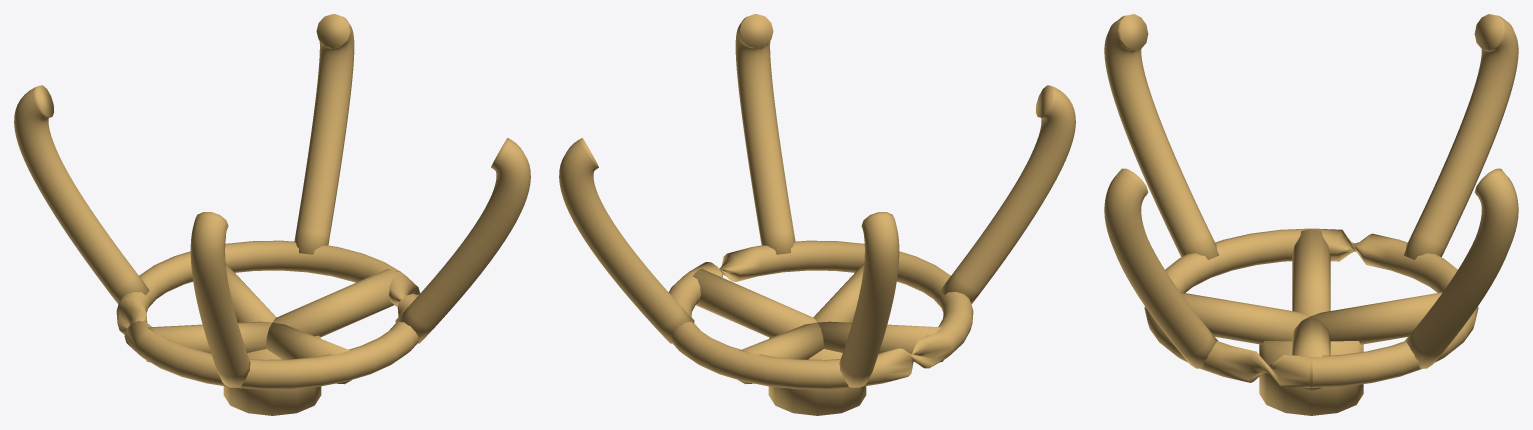
Rendered from demo-round-1-4-prong.glb.
3 renders of one model, left to right at view 1: azimuth 30°, elevation 25°; view 2: azimuth 150°, elevation 25°; view 3: azimuth 270°, elevation 25°, orthographic. The views are drawn at different scales.
Parts seen in each view (by area): view 1: Metal.005, Metal.006, Metal.007, Metal.009, Metal.008, Metal.001, Metal, Metal.004, Metal.002, Metal.003; view 2: Metal.005, Metal.009, Metal.008, Metal.006, Metal.007, Metal.001, Metal, Metal.002, Metal.003, Metal.004; view 3: Metal.005, Metal.007, Metal.008, Metal.009, Metal.006, Metal.003, Metal.004, Metal, Metal.002, Metal.001.
Boxes of the visible parts, x1,y1,x2,y2 form: Metal.005: [116, 240, 420, 389]; Metal.006: [294, 14, 354, 254]; Metal.007: [14, 85, 149, 304]; Metal.009: [395, 138, 530, 343]; Metal.008: [190, 212, 250, 387]; Metal.001: [273, 269, 397, 337]; Metal: [223, 335, 321, 415]; Metal.004: [266, 322, 351, 384]; Metal.002: [146, 321, 272, 362]; Metal.003: [225, 263, 276, 322]; Metal.005: [668, 240, 973, 389]; Metal.009: [735, 14, 795, 254]; Metal.008: [940, 85, 1075, 304]; Metal.006: [559, 138, 694, 343]; Metal.007: [839, 212, 899, 387]; Metal.001: [692, 269, 816, 337]; Metal: [768, 335, 866, 415]; Metal.002: [817, 321, 943, 362]; Metal.003: [738, 322, 823, 384]; Metal.004: [813, 263, 864, 322]; Metal.005: [1144, 228, 1478, 387]; Metal.007: [1403, 14, 1518, 259]; Metal.008: [1104, 14, 1219, 259]; Metal.009: [1104, 168, 1217, 368]; Metal.006: [1405, 168, 1518, 368]; Metal.003: [1312, 292, 1442, 344]; Metal.004: [1180, 292, 1310, 344]; Metal: [1259, 341, 1363, 415]; Metal.002: [1292, 229, 1330, 315]; Metal.001: [1292, 316, 1330, 390].
Size of the model in its own units: 5.17 by 4.16 by 5.17.
